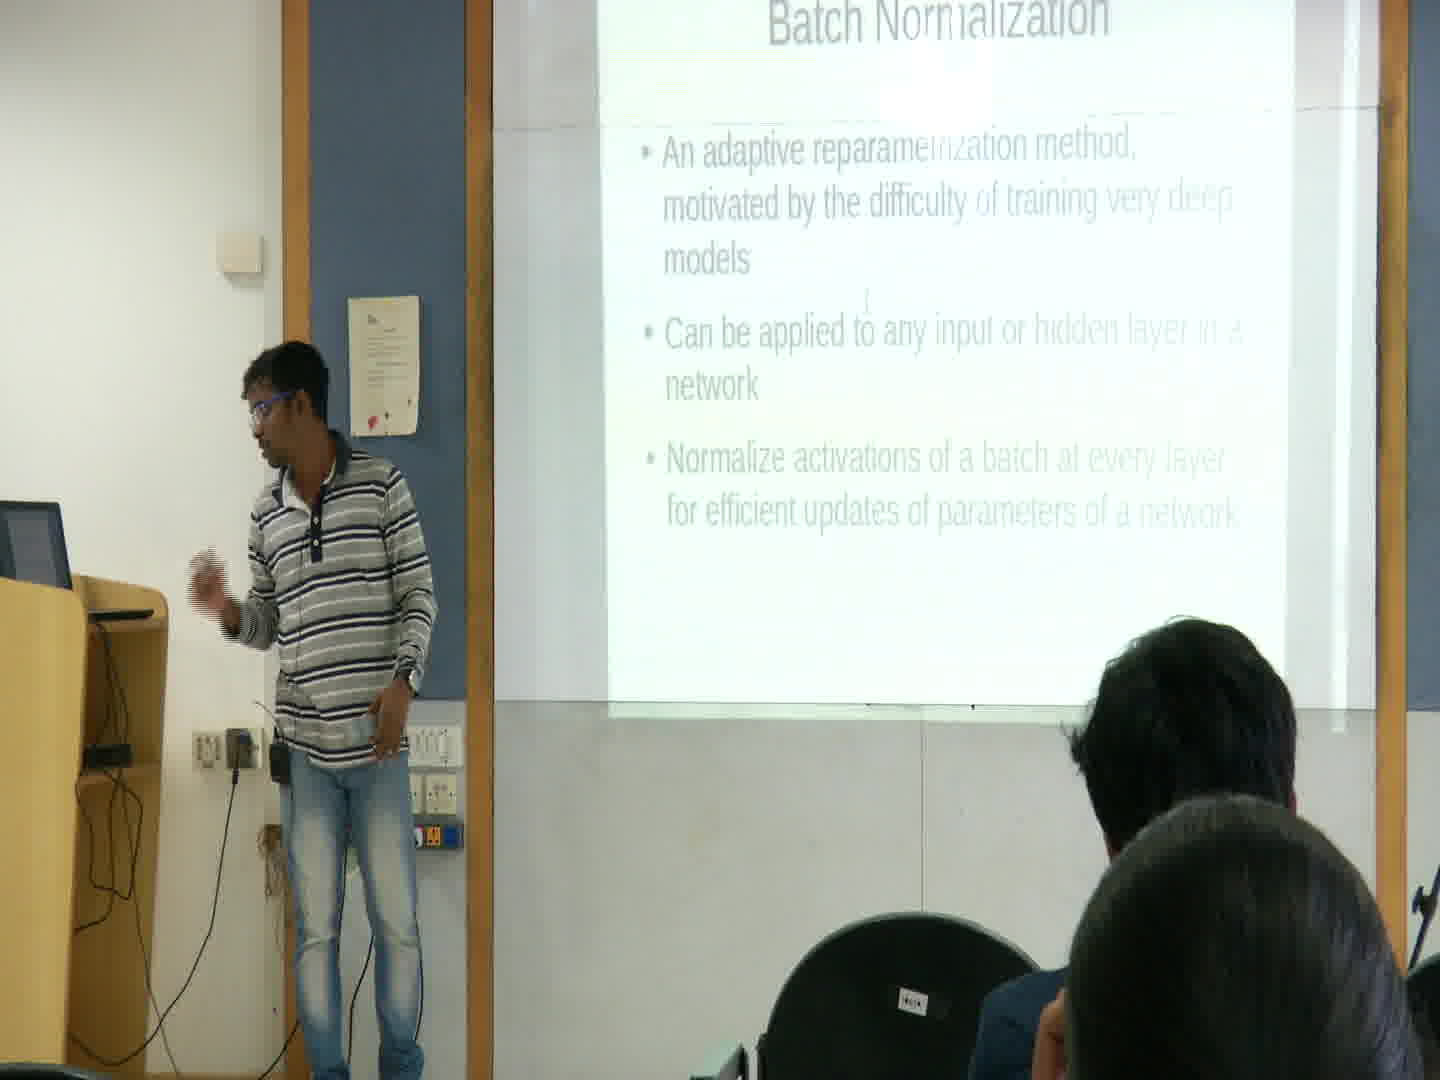slide: (598, 1, 1291, 726)
